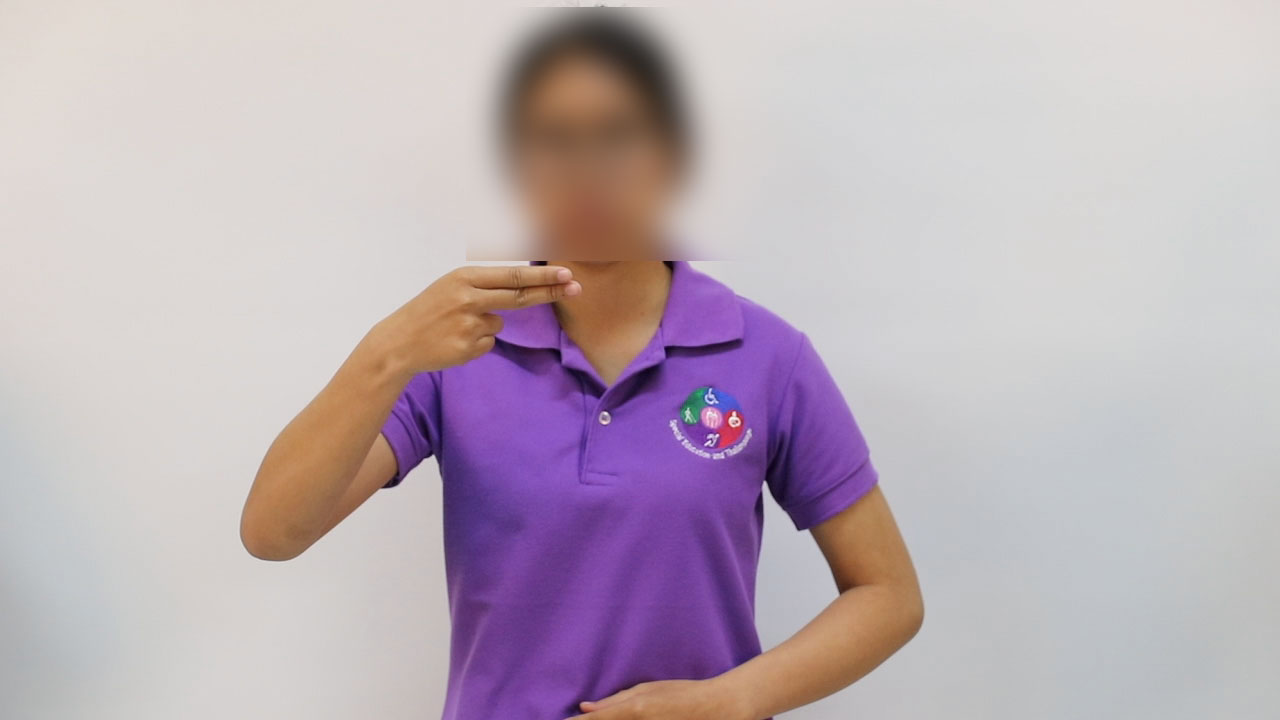hor: (361, 249, 594, 389)
